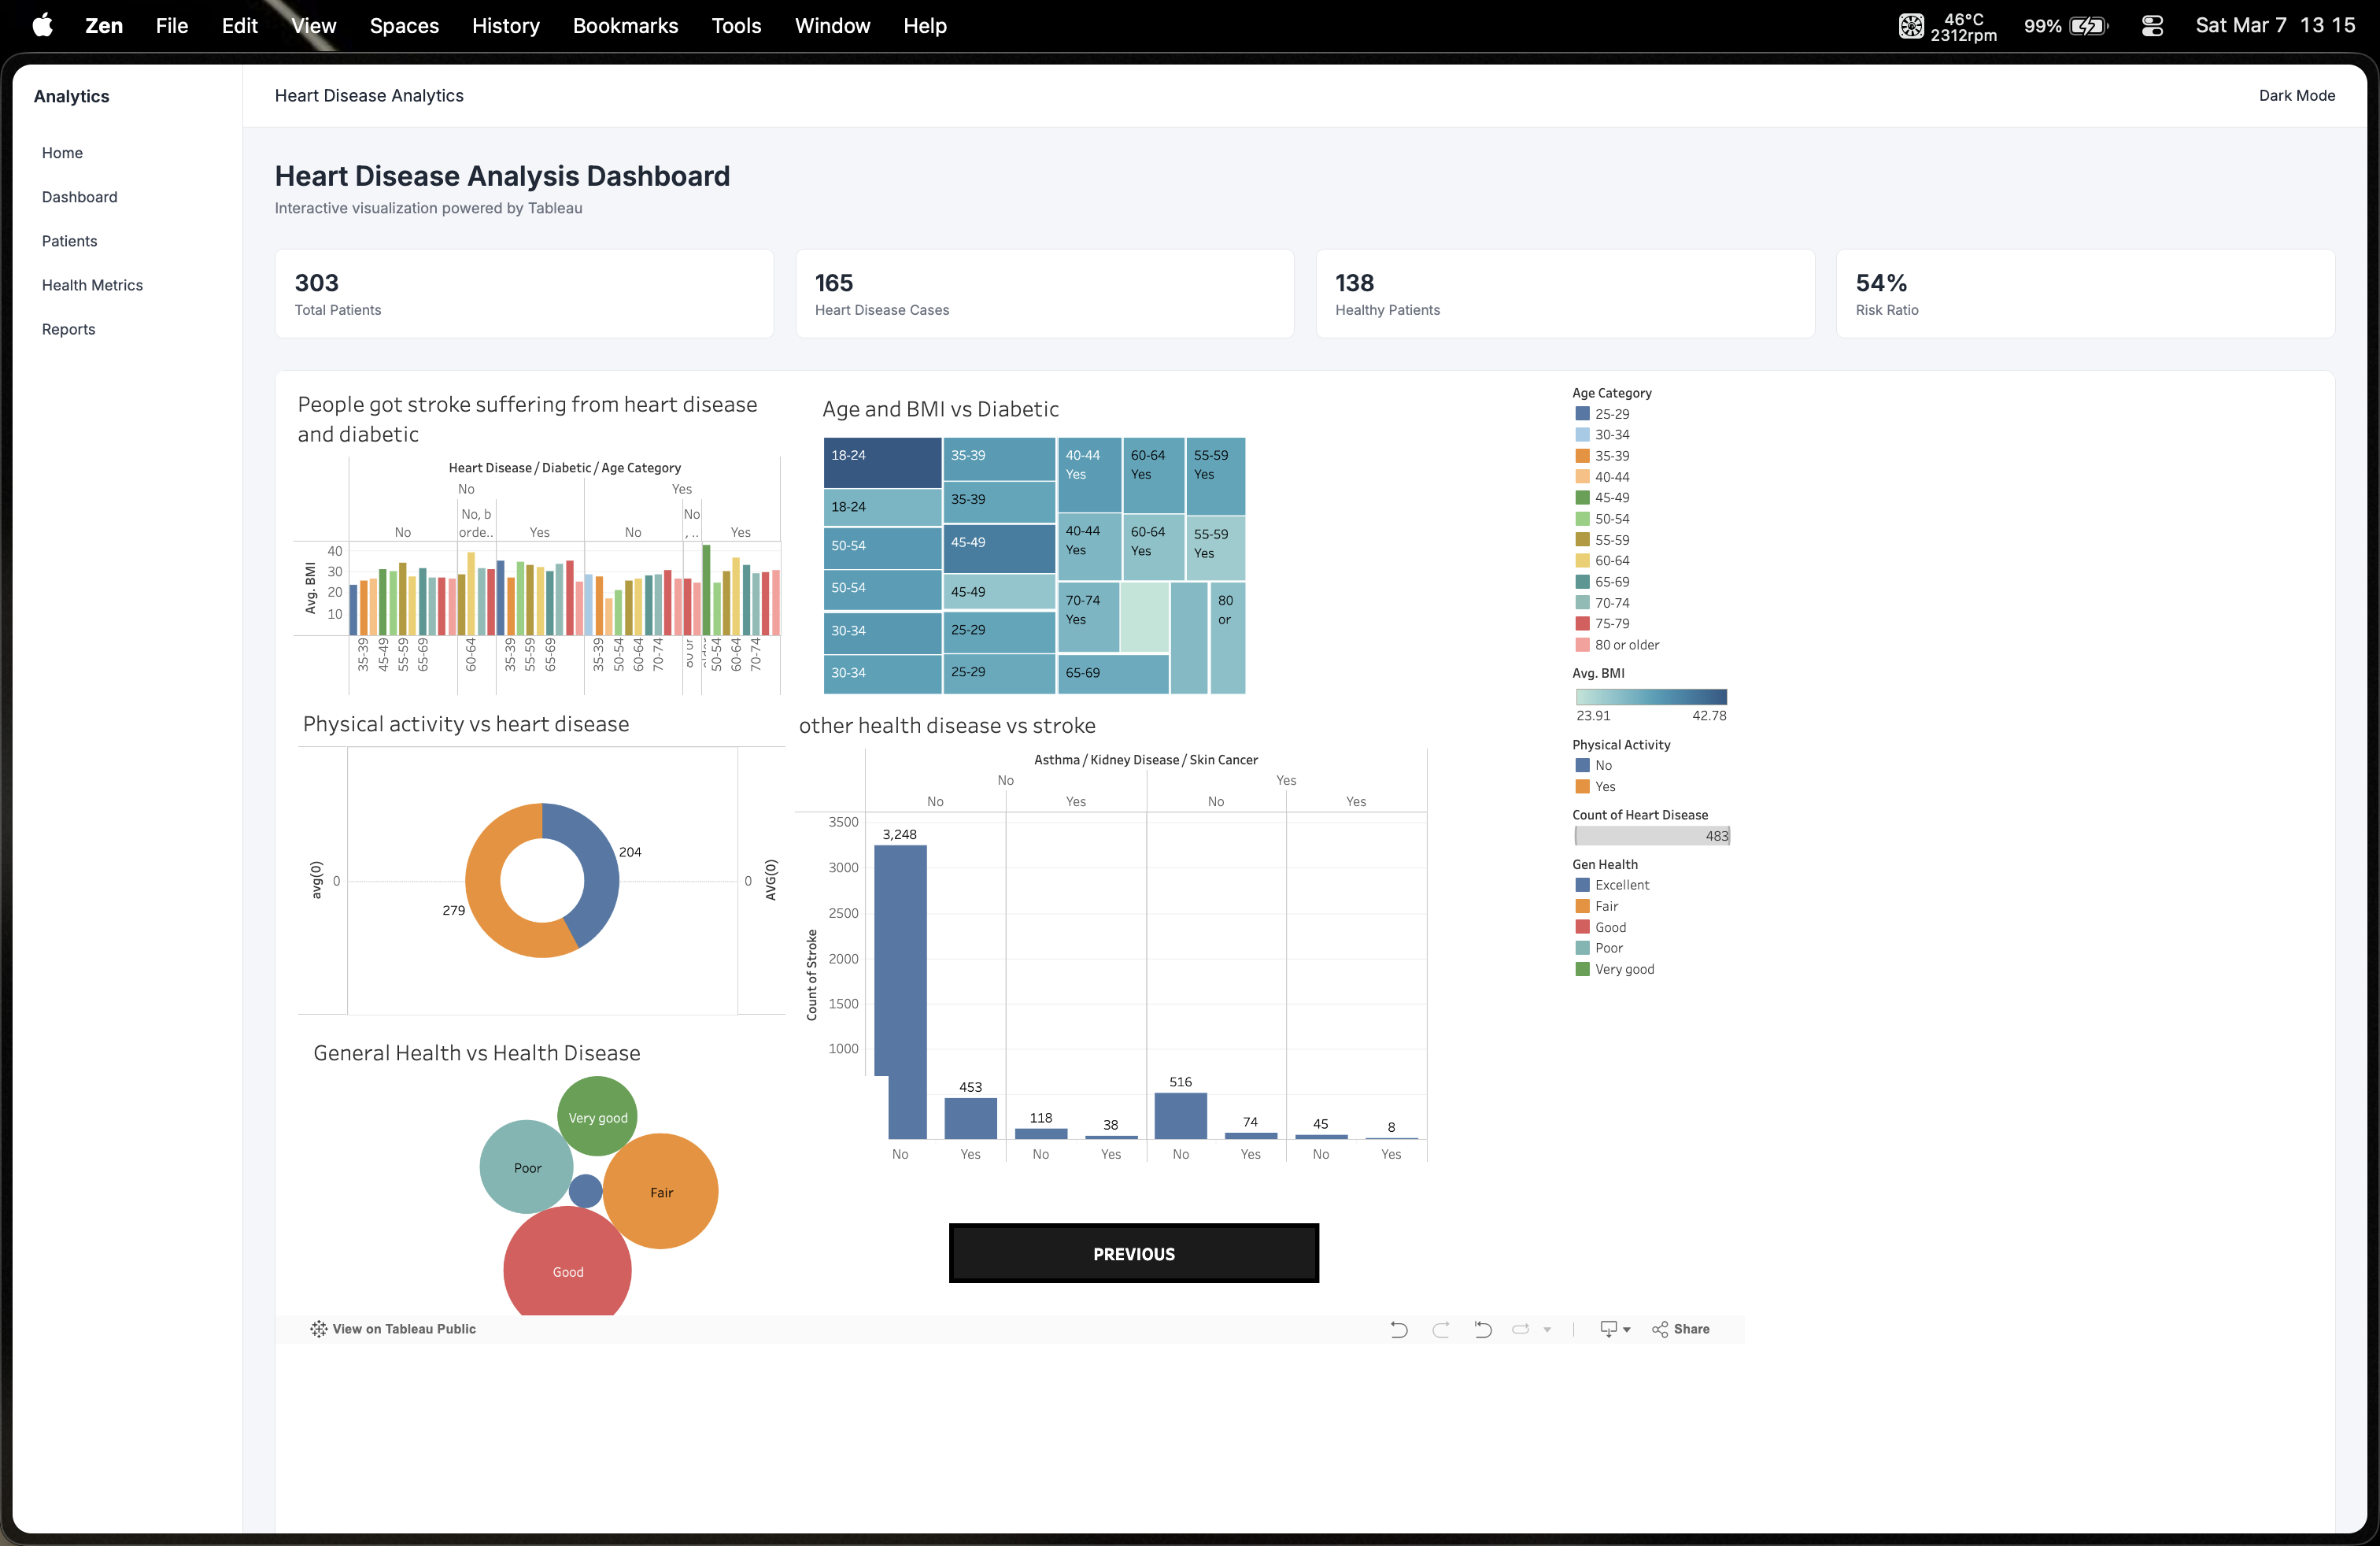

What the dashboard file says about the page in this screenshot:
{"tool":"tableau","page":{"name":"Dashboard 2","canvas":[650,860],"ordinal":1},"visuals":[{"type":"legend","title":"Sheet 10","param":"[federated.1gvy1o20oyyh6y1ewezvz1871si8].[none:AgeCategory:nk]","box":[482,8,160,266]},{"type":"worksheet","title":"Sheet 10","mark":"Automatic","rows":["BMI"],"cols":["HeartDisease","Diabetic","AgeCategory"],"box":[8,10,216,286]},{"type":"worksheet","title":"Sheet 9","mark":"Automatic","box":[226,14.1,258,286]},{"type":"worksheet","title":"Sheet 5","mark":"Automatic","rows":["Stroke"],"cols":["Asthma","KidneyDisease","SkinCancer"],"box":[230,217.8,253,484.7]},{"type":"legend","title":"Sheet 9","param":"[federated.1gvy1o20oyyh6y1ewezvz1871si8].[avg:BMI:qk]","box":[482,274,160,65]},{"type":"worksheet","title":"Sheet 8","mark":"Pie","rows":["Calculation_0937929213898754","Calculation_0937929219297286"],"box":[10,301.1,216,286]},{"type":"legend","title":"Sheet 8","param":"[federated.1gvy1o20oyyh6y1ewezvz1871si8].[none:PhysicalActivity:nk]","box":[482,339,160,66]},{"type":"legend","title":"Sheet 8","param":"[federated.1gvy1o20oyyh6y1ewezvz1871si8].[cnt:HeartDisease:qk]","box":[482,405,160,46]},{"type":"legend","title":"Sheet 7","param":"[federated.1gvy1o20oyyh6y1ewezvz1871si8].[none:GenHealth:nk]","box":[482,451,160,126]},{"type":"dashboard-object","box":[298,723.5,164,52.2]}]}

Visuals, with their boxes on the page's 650x860 design canvas (x1, y1, x2, y2). These are canvas units, not pixel positions in the 2380x1546 screenshot, which may show the page scaled, cropped or inside an application window:
"Sheet 10" legend: x1=482, y1=8, x2=642, y2=274
"Sheet 10" worksheet: x1=8, y1=10, x2=224, y2=296
"Sheet 9" worksheet: x1=226, y1=14, x2=484, y2=300
"Sheet 5" worksheet: x1=230, y1=218, x2=483, y2=702
"Sheet 9" legend: x1=482, y1=274, x2=642, y2=339
"Sheet 8" worksheet (Pie marks): x1=10, y1=301, x2=226, y2=587
"Sheet 8" legend: x1=482, y1=339, x2=642, y2=405
"Sheet 8" legend: x1=482, y1=405, x2=642, y2=451
"Sheet 7" legend: x1=482, y1=451, x2=642, y2=577
dashboard-object: x1=298, y1=724, x2=462, y2=776
